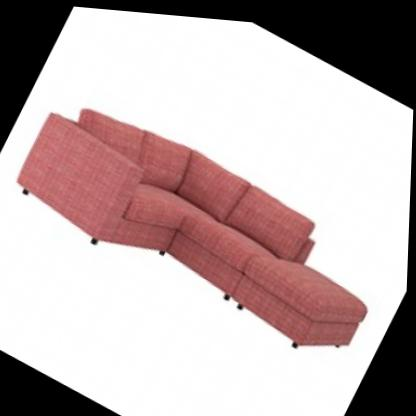Sofa: (0, 41, 415, 400)
